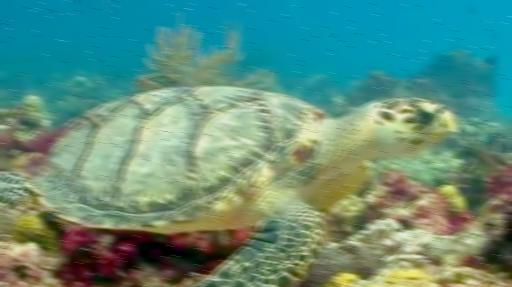Fish: (0, 87, 456, 286)
